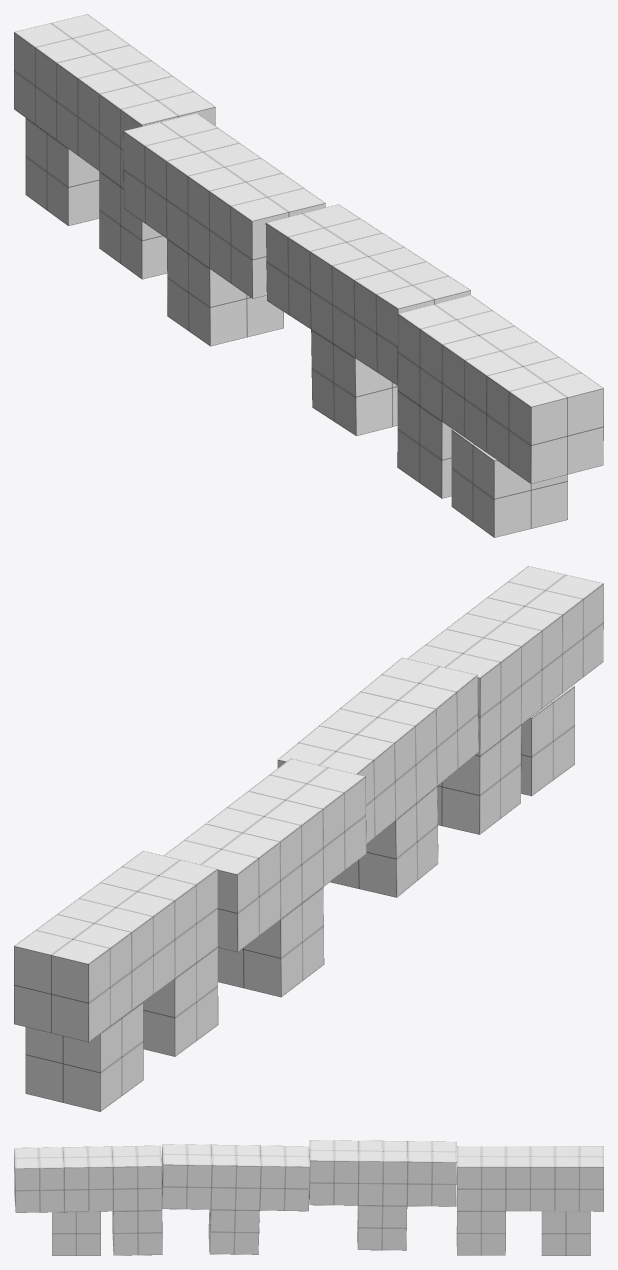
The picture shows the model from 3 angles, top to bottom: view 1: azimuth 30°, elevation 25°; view 2: azimuth 150°, elevation 25°; view 3: azimuth 270°, elevation 25°; orthographic projection. The views are drawn at different scales.
Visible parts, largest first — view 1: GridBigLShape_0, GridBigTShape_0, GridBigTShape_0:1, GridBigLShape_0:1, Plane/BasicEnvironment/StartCube-1, Plane/BasicEnvironment/StartCube-2; view 2: GridBigLShape_0:1, GridBigTShape_0, GridBigLShape_0, GridBigTShape_0:1, Plane/BasicEnvironment/StartCube-2, Plane/BasicEnvironment/StartCube-1; view 3: GridBigLShape_0, GridBigTShape_0:1, GridBigTShape_0, GridBigLShape_0:1, Plane/BasicEnvironment/StartCube-2, Plane/BasicEnvironment/StartCube-1.
Boxes of the visible parts, left/top/right/bottom form: GridBigLShape_0: left=397, top=295, right=603, bottom=498; GridBigTShape_0: left=123, top=113, right=325, bottom=346; GridBigTShape_0:1: left=265, top=204, right=470, bottom=435; GridBigLShape_0:1: left=14, top=14, right=215, bottom=279; Plane/BasicEnvironment/StartCube-1: left=451, top=429, right=567, bottom=537; Plane/BasicEnvironment/StartCube-2: left=25, top=118, right=99, bottom=225; GridBigLShape_0:1: left=14, top=851, right=218, bottom=1056; GridBigTShape_0: left=164, top=758, right=366, bottom=997; GridBigLShape_0: left=407, top=566, right=603, bottom=834; GridBigTShape_0:1: left=277, top=657, right=478, bottom=897; Plane/BasicEnvironment/StartCube-2: left=25, top=1002, right=143, bottom=1111; Plane/BasicEnvironment/StartCube-1: left=521, top=686, right=574, bottom=796; GridBigLShape_0: left=14, top=1145, right=162, bottom=1255; GridBigTShape_0:1: left=161, top=1144, right=309, bottom=1254; GridBigTShape_0: left=309, top=1140, right=456, bottom=1250; GridBigLShape_0:1: left=456, top=1146, right=603, bottom=1255; Plane/BasicEnvironment/StartCube-2: left=541, top=1211, right=590, bottom=1255; Plane/BasicEnvironment/StartCube-1: left=52, top=1211, right=100, bottom=1255.
Size of the model in its own units: 0.2623 by 0.4113 by 2.41.
